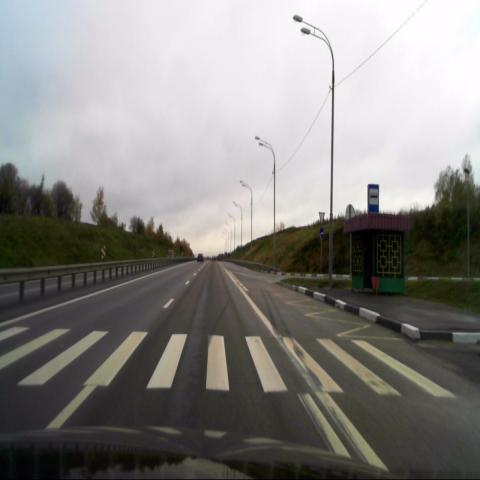2_4: (319, 212, 325, 227)
5_16: (367, 184, 379, 214)
